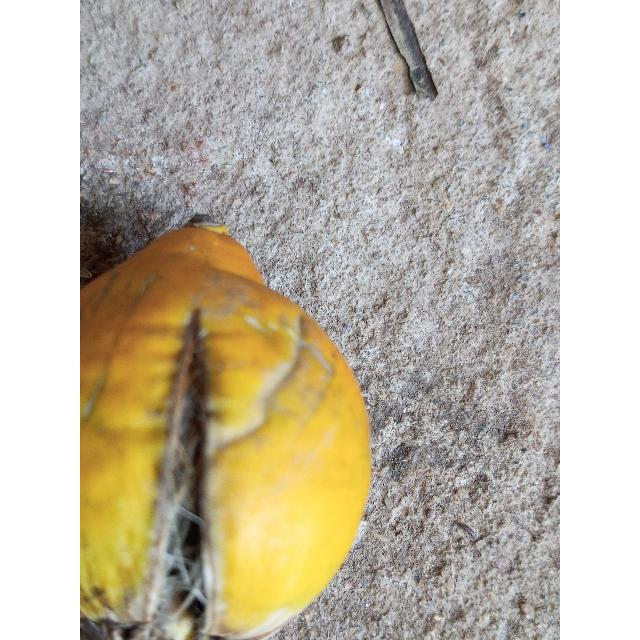damaged: (80, 222, 373, 640)
